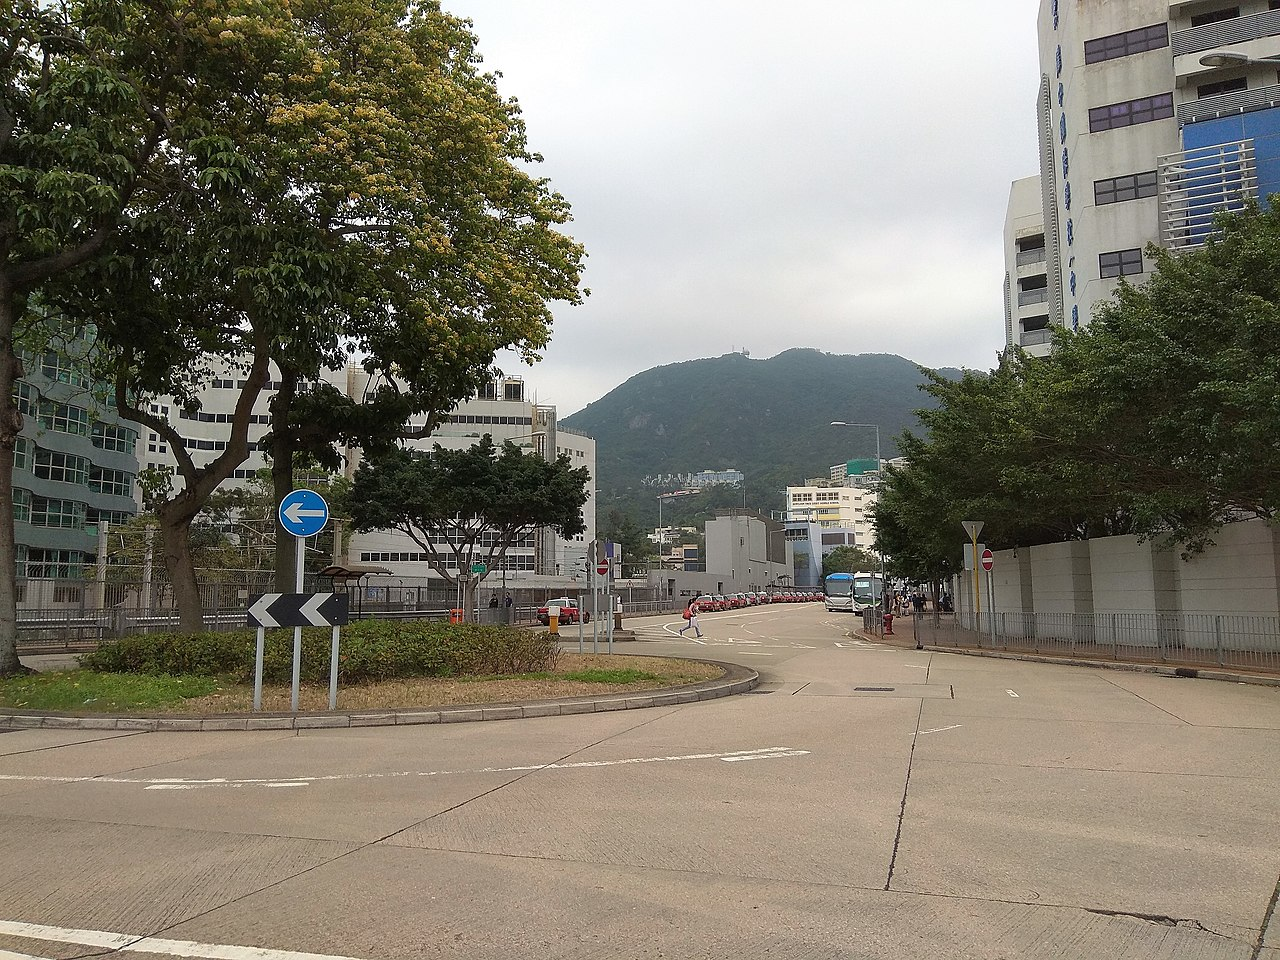No Enter: (980, 549, 994, 573), (595, 560, 613, 575)
Turn Left: (279, 491, 330, 536)
Turn Left(quick): (244, 592, 351, 628)
